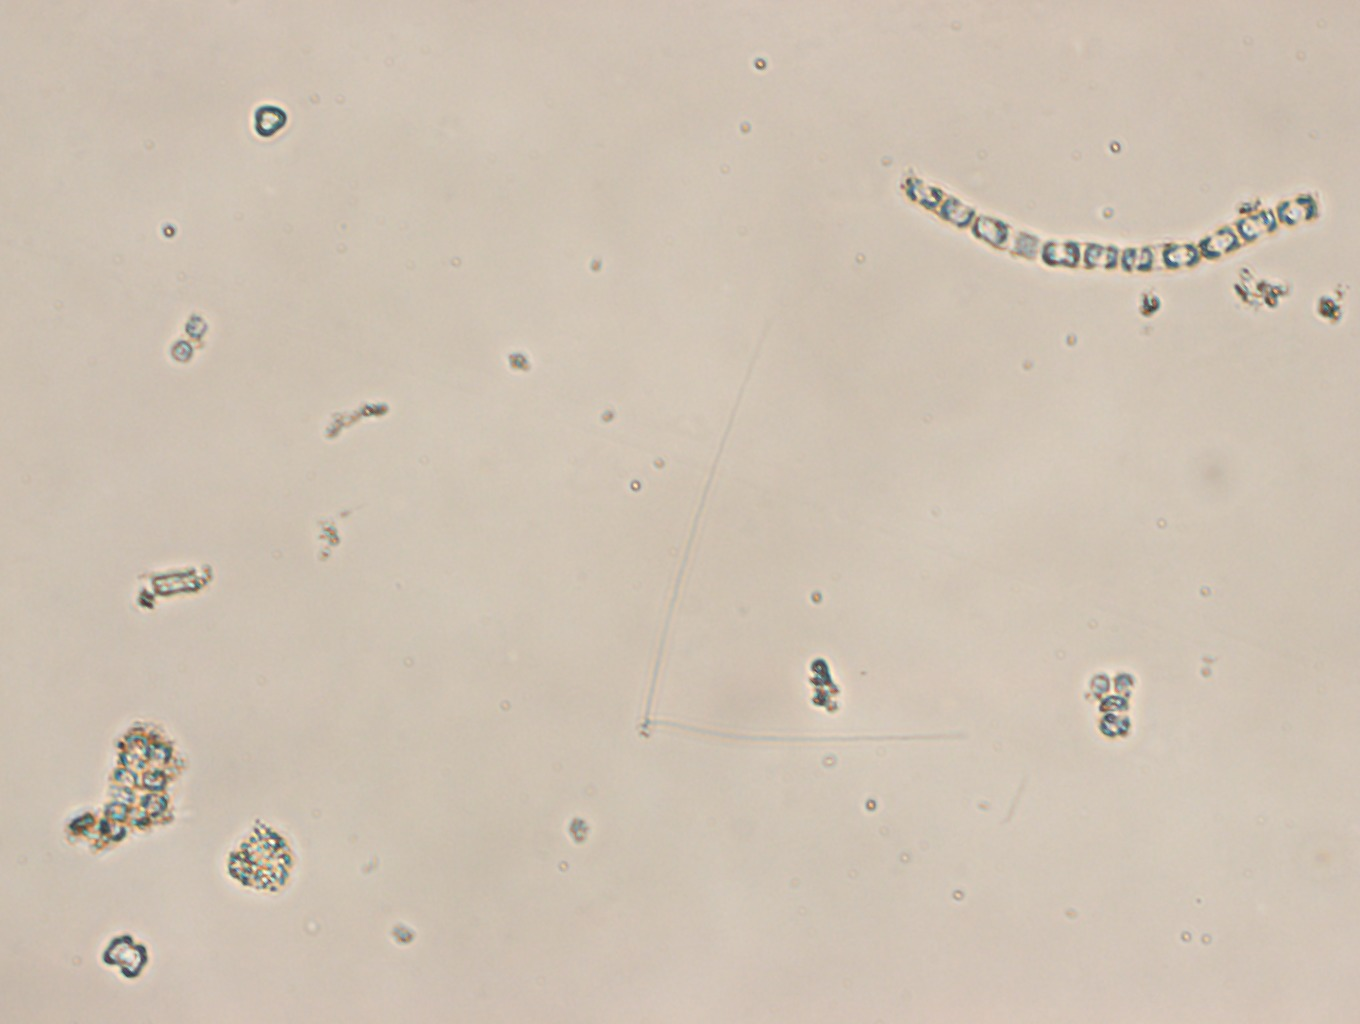skeletonema: (901, 170, 1320, 275)
